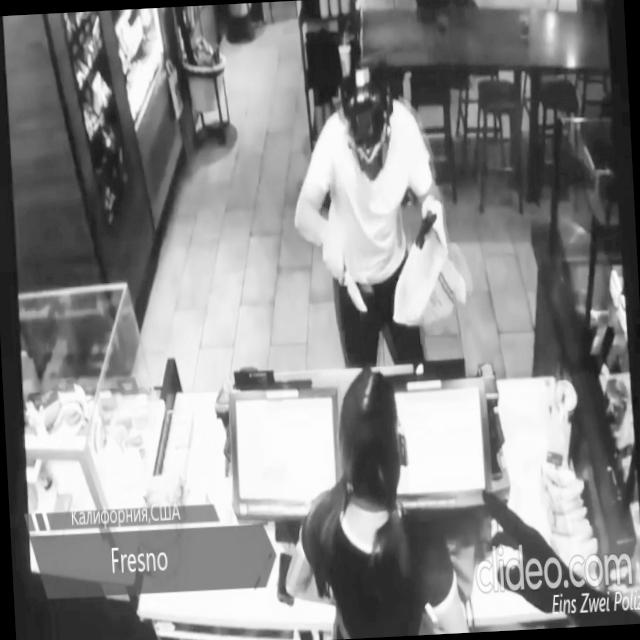gun: (414, 204, 439, 251)
person: (273, 359, 471, 640)
person with a gun: (284, 55, 453, 368)
